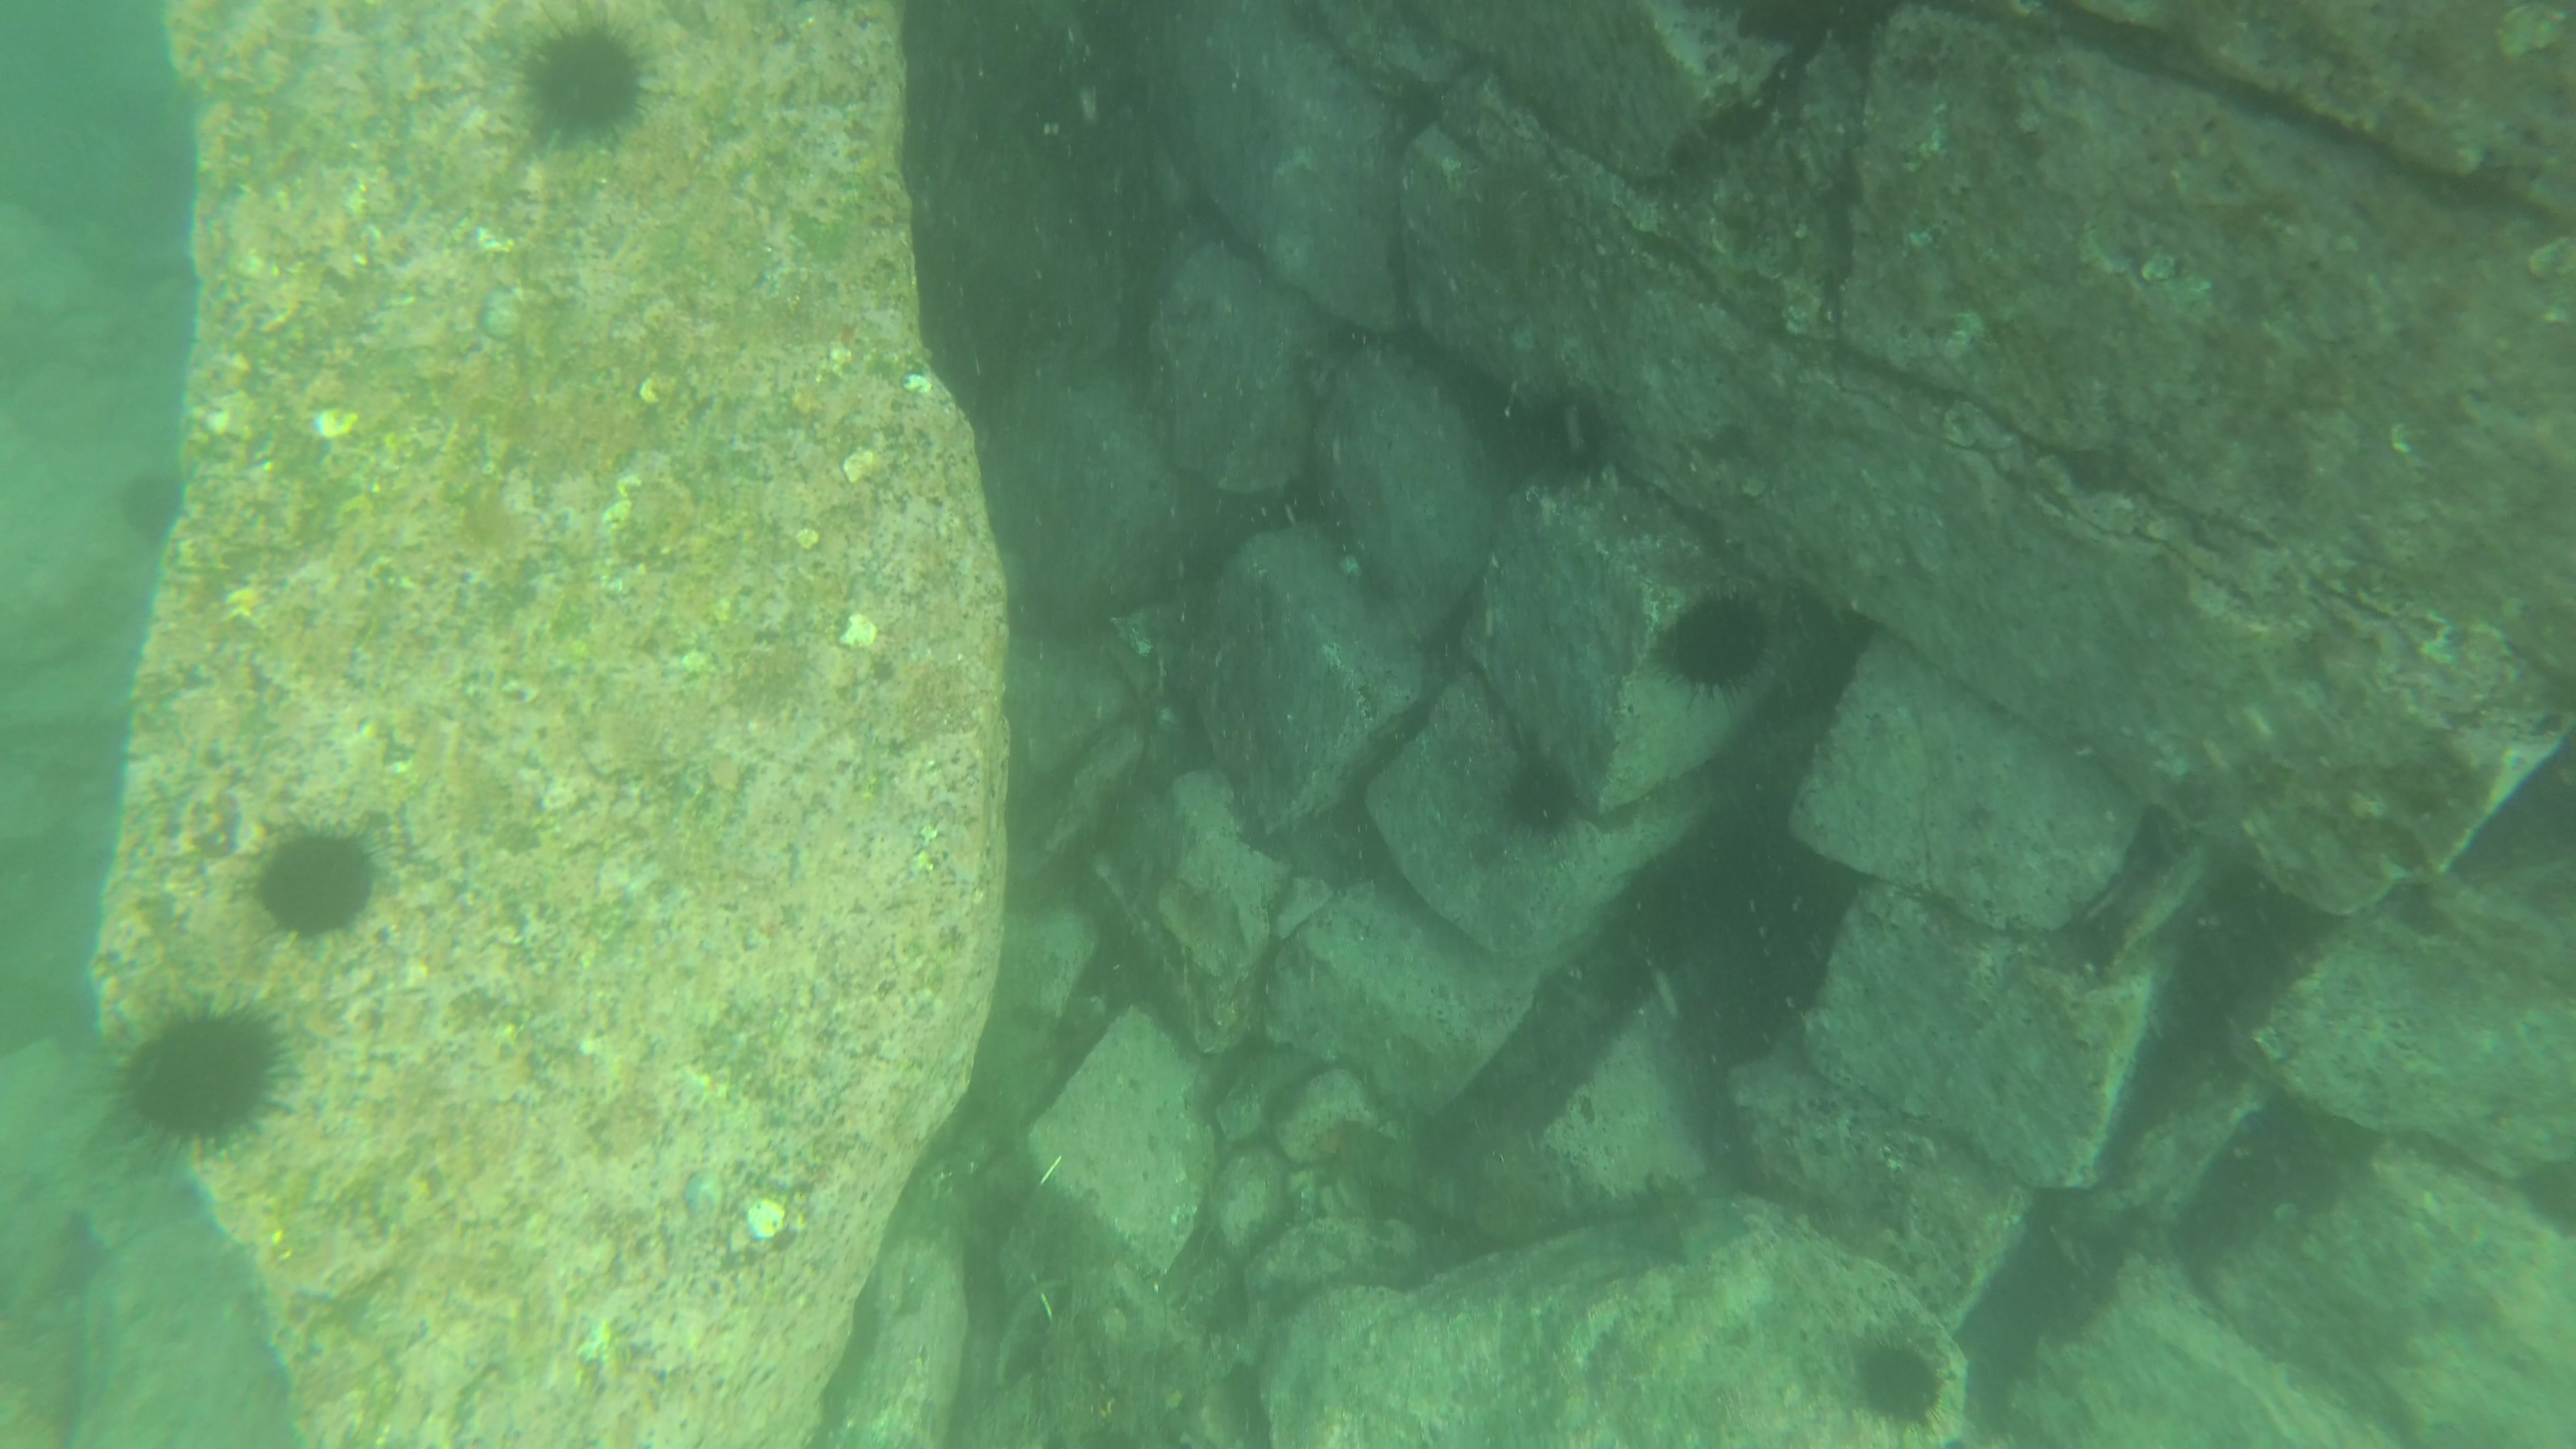echinus: (119, 991, 278, 1169), (508, 12, 665, 159), (239, 826, 373, 938), (1523, 380, 1624, 506), (1658, 602, 1778, 694), (1859, 1341, 1955, 1428), (1495, 771, 1583, 846), (117, 476, 195, 547)
